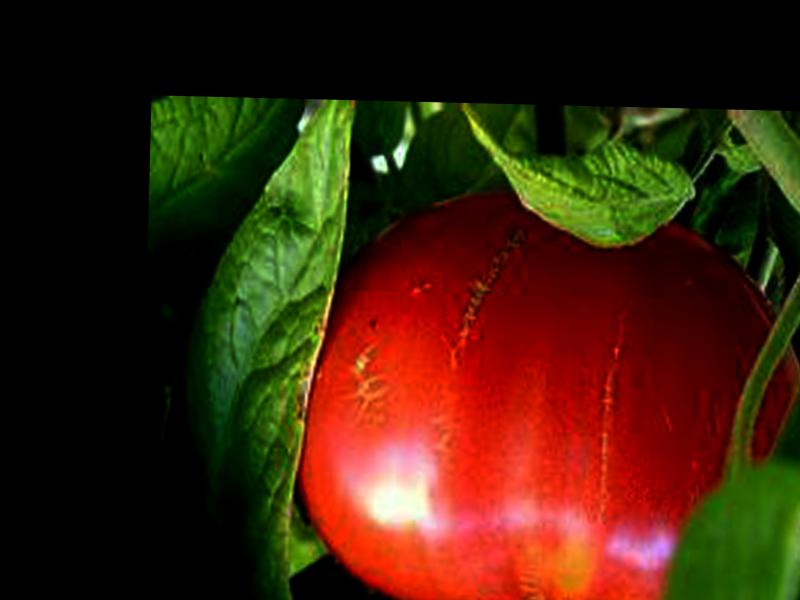Tomato: (289, 189, 800, 600)
